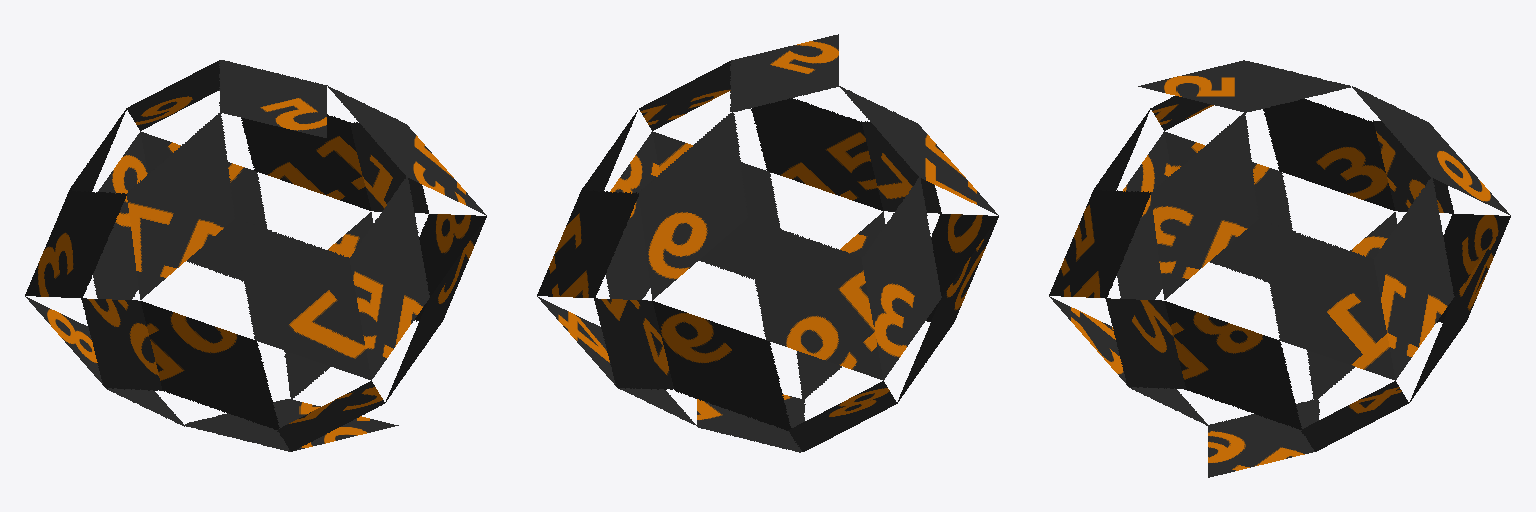
3 renders of one model, left to right at view 1: azimuth 30°, elevation 25°; view 2: azimuth 150°, elevation 25°; view 3: azimuth 270°, elevation 25°, orthographic.
Visible parts, largest first — view 1: Hedra01; view 2: Hedra01; view 3: Hedra01.
Boxes of the visible parts, x1,y1,x2,y2 form: Hedra01: [25, 60, 486, 451]; Hedra01: [537, 34, 998, 452]; Hedra01: [1049, 60, 1510, 477].
Bounding box in the file's own units: 0.7316 × 0.6836 × 0.8448.
1 materials, 1 textured.